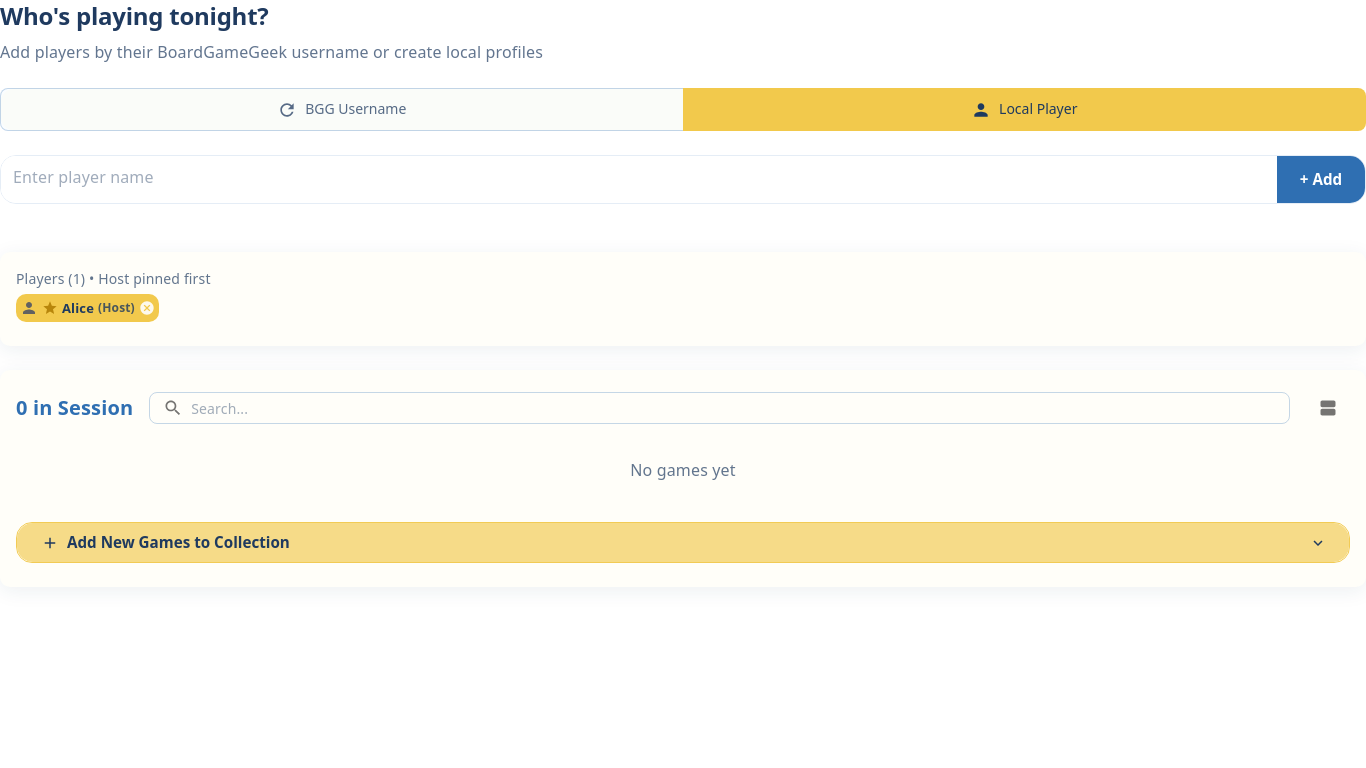
it: PlayersStep › shows and hides the Add New Games panel via the action button
Expected: the text "Select users to add games to:" is not shown
Click the button "Add New Games to Collection" at (178, 542), box [17,523,1349,562]
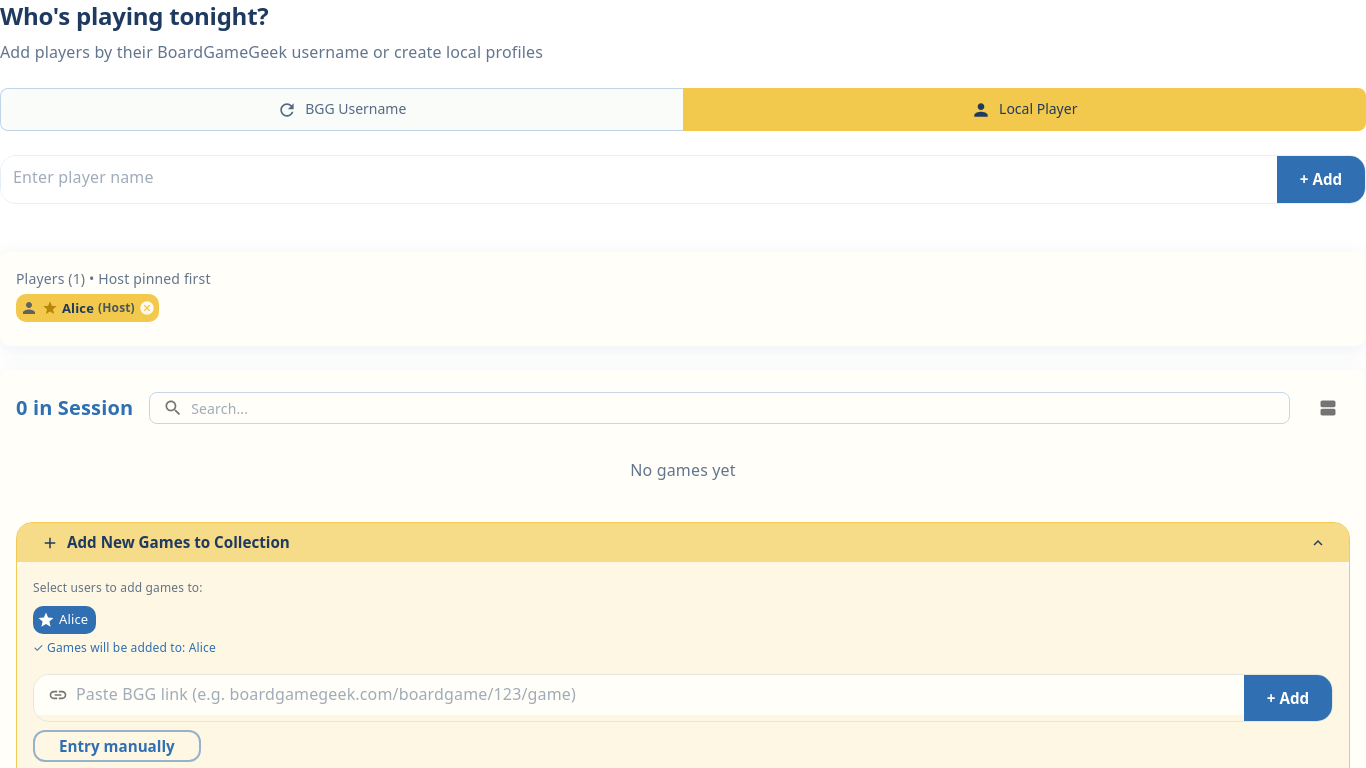
Now the text "Select users to add games to:" is shown, box [33,578,203,598]
Note: Close by toggling the expandable header again
Click the button "Add New Games to Collection" at (178, 542), box [17,523,1349,562]
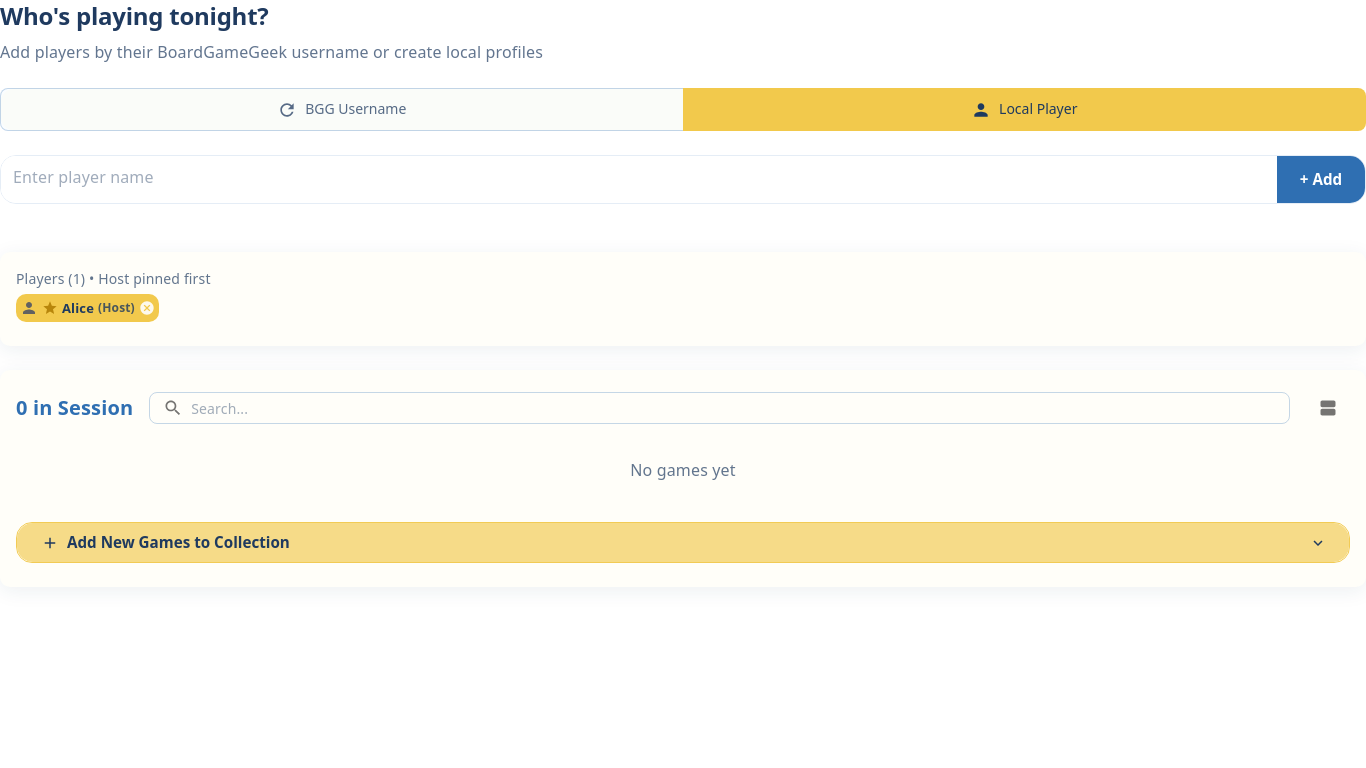
Now the text "Select users to add games to:" is gone
